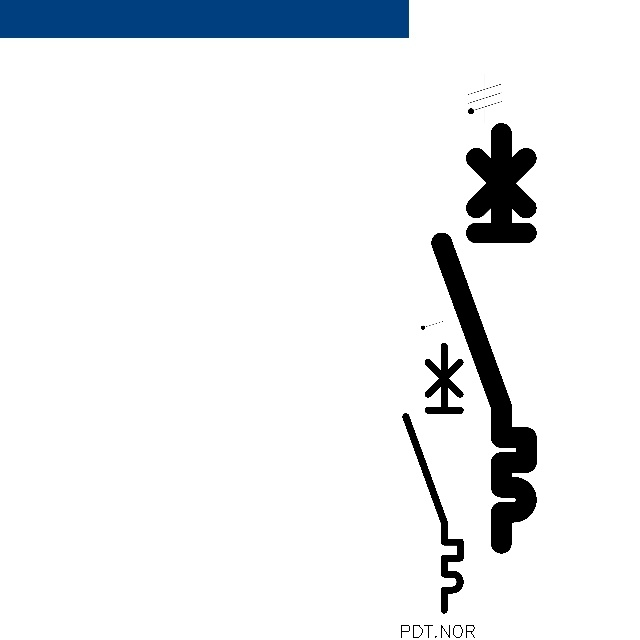interruptor_termomagnetico: (431, 122, 537, 554), (399, 339, 467, 617)
